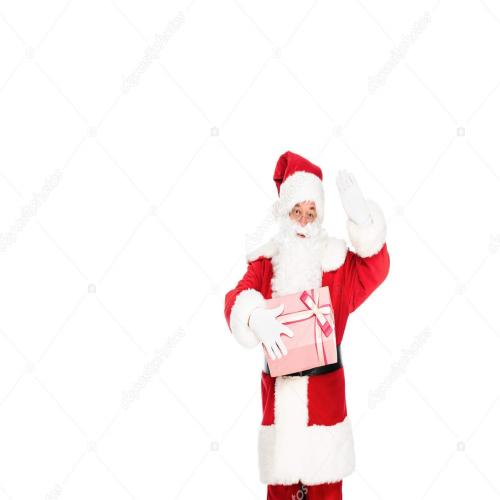Santa: (223, 150, 390, 500)
